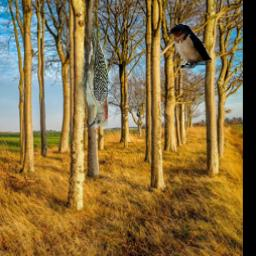Swallow: (165, 23, 212, 68)
Woodpecker: (78, 21, 109, 128)
